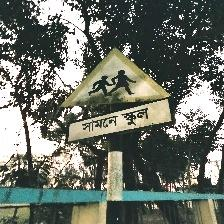School-in-front: (59, 47, 173, 144)
